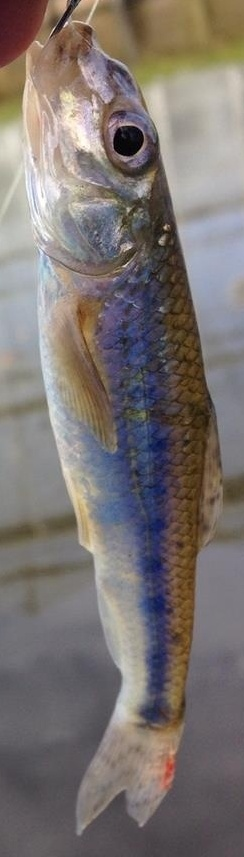Gobio gobio: (20, 20, 224, 837)
